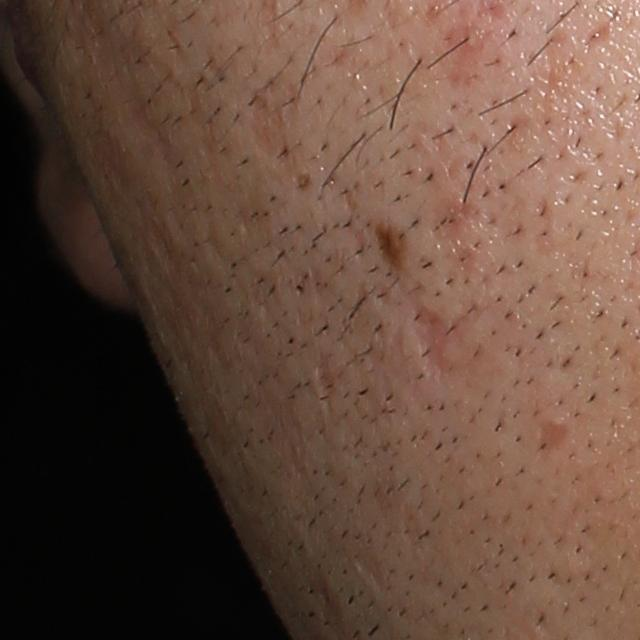atrophic_scar: (243, 86, 302, 175), (413, 300, 474, 385), (438, 16, 487, 90), (309, 347, 338, 437), (431, 199, 480, 239), (501, 112, 531, 153)
nevus: (375, 222, 409, 272)
